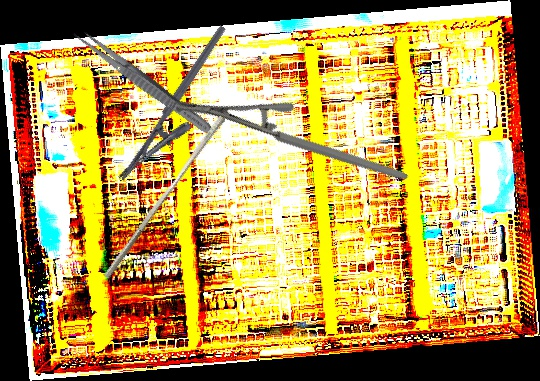Dressing Forceps: (69, 24, 220, 141)
Needle Holder: (172, 37, 409, 246), (117, 24, 248, 196)
Pusher: (103, 111, 226, 284)
